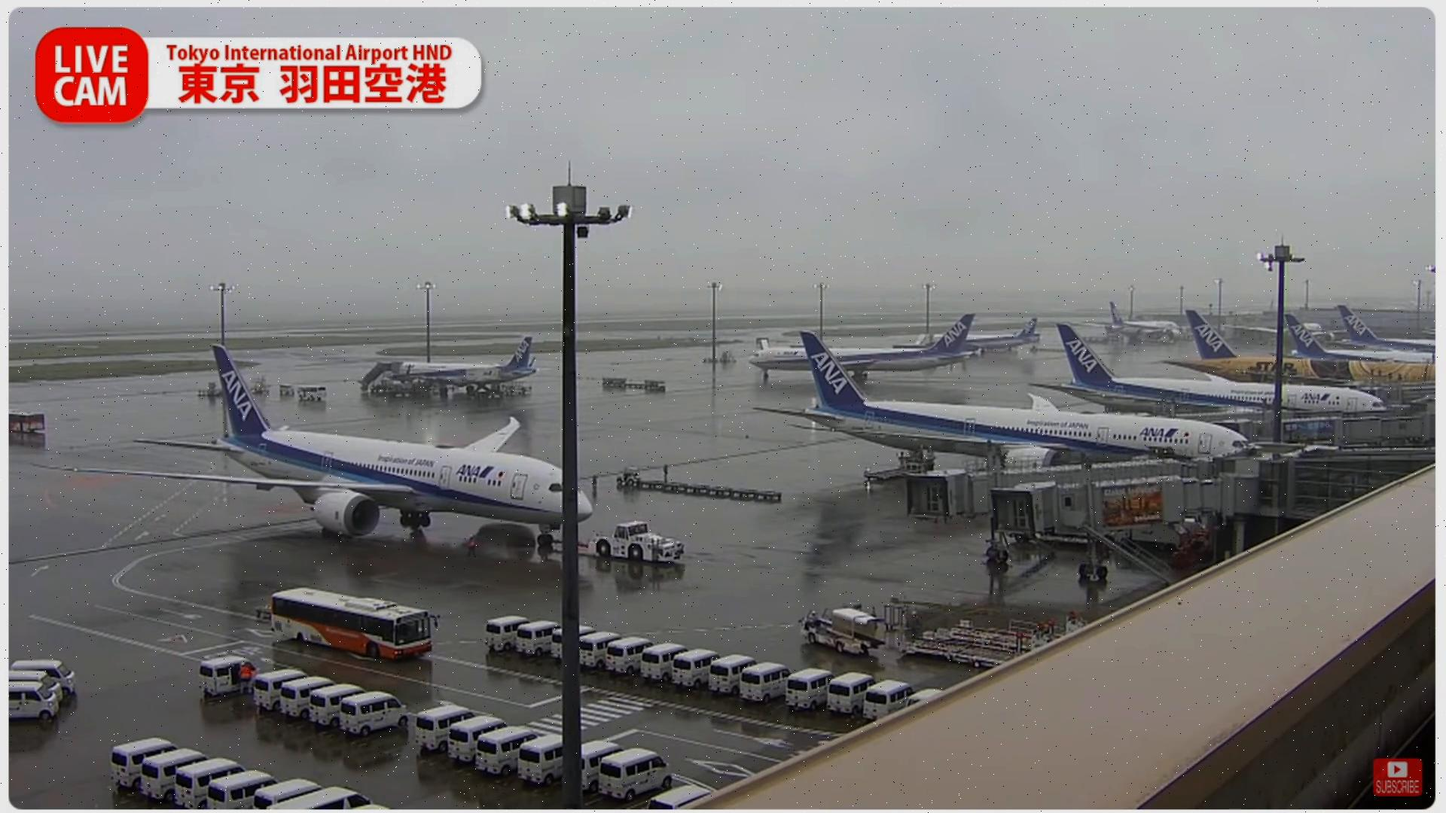APS: (585, 519, 683, 563)
Aerobridge: (904, 455, 1210, 522), (991, 474, 1261, 535)
Airplane: (30, 345, 593, 545)
JCPL: (924, 615, 1087, 656), (895, 630, 1024, 671)
Skyloader: (800, 606, 888, 655)
Window: (1292, 458, 1433, 516)
